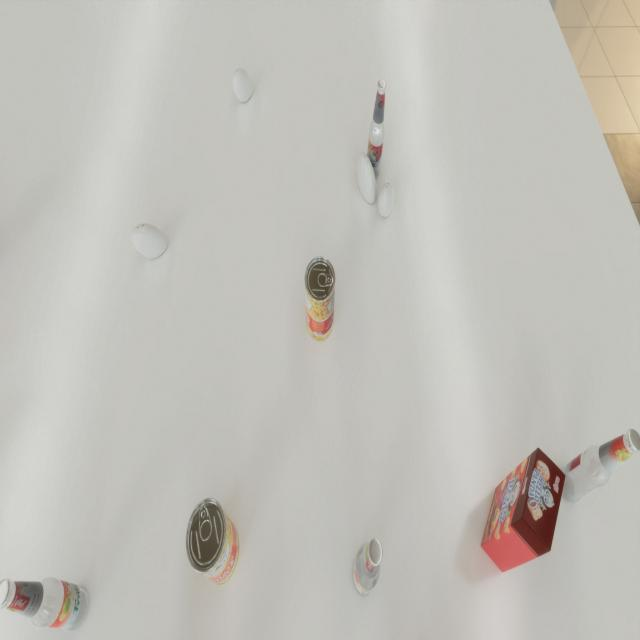Bottle: (557, 429, 640, 504), (0, 575, 89, 632), (366, 79, 386, 180), (351, 538, 383, 598)
HelloPanda: (480, 448, 566, 572)
Potato_sticks: (186, 498, 239, 584), (304, 256, 336, 342)
Salt: (132, 223, 168, 259), (357, 152, 377, 204), (232, 68, 254, 102), (378, 181, 394, 217)
